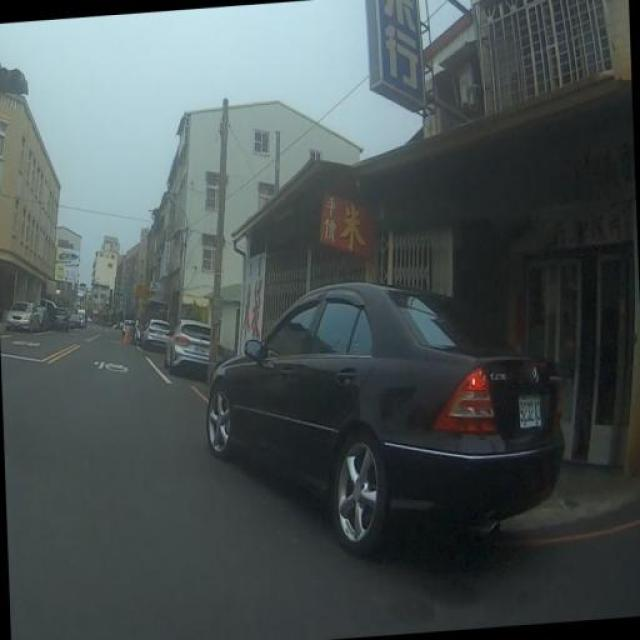illegalparking: (188, 257, 580, 561)
